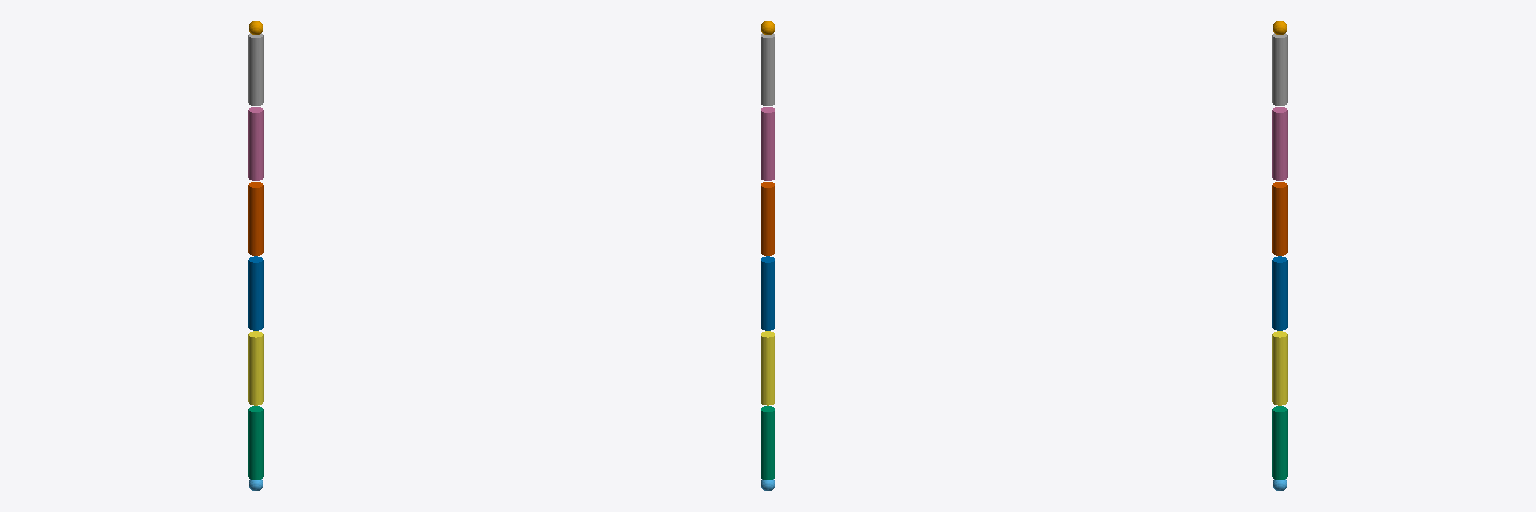
robot.urdf — panda_description:
<?xml version="1.0" encoding="utf-8"?>
<!-- =================================================================================== -->
<!-- |    This document was autogenerated by xacro from panda.urdf.xacro               | -->
<!-- |    EDITING THIS FILE BY HAND IS NOT RECOMMENDED                                 | -->
<!-- =================================================================================== -->
<robot name="panda_description">
  <link name="world"/>
  <joint name="robot_to_world" type="fixed">
    <parent link="world"/>
    <child link="panda_link0"/>
    <origin rpy="0.0 0.0 0.0" xyz="0.0 0.0 0.1"/>
  </joint>
  <!-- end for simulation -->
  <link name="panda_link0">
    <visual>
      <geometry>
        <sphere radius="0.1"/>
      </geometry>
    </visual>
    <collision>
      <geometry>
        <sphere radius="0.1"/>
      </geometry>
    </collision>
    <!-- for simulation -->
    <inertial>
      <origin rpy="0 0 0" xyz="0 0 0.05"/>
      <mass value="1.00"/>
      <inertia ixx="0.25083" ixy="0.0" ixz="0.0" iyy="0.25083" iyz="0.0" izz="0.5"/>
    </inertial>
    <!-- end for simulation -->
  </link>
  <link name="panda_link1">
    <visual>
      <origin xyz="0 0 0.6" rpy="0 0 0"/>
      <geometry>
        <cylinder length="1.0" radius="0.1"/>
      </geometry>
    </visual>
    <collision>
      <origin xyz="0 0 0.6" rpy="0 0 0"/>
      <geometry>
        <cylinder length="1.0" radius="0.1"/>
      </geometry>
    </collision>
    <!-- for simulation -->
    <inertial>
      <origin rpy="0 0 0" xyz="0 0 0.5"/>
      <mass value="1.0"/>
      <inertia ixx="0.0858" ixy="0.0" ixz="0.0" iyy="0.0858" iyz="0.0" izz="0.005"/>
    </inertial>
    <!-- end for simulation -->
  </link>
  <link name="panda_link2">
    <visual>
      <origin xyz="0 0 0.6" rpy="0 0 0"/>
      <geometry>
        <cylinder length="1.0" radius="0.1"/>
      </geometry>
    </visual>
    <collision>
      <origin xyz="0 0 0.6" rpy="0 0 0"/>
      <geometry>
        <cylinder length="1.0" radius="0.1"/>
      </geometry>
    </collision>
    <!-- for simulation -->
    <inertial>
      <origin rpy="0 0 0" xyz="0 0 0.5"/>
      <mass value="1.0"/>
      <inertia ixx="0.0858" ixy="0.0" ixz="0.0" iyy="0.0858" iyz="0.0" izz="0.005"/>
    </inertial>
    <!-- end for simulation -->
  </link>
  <link name="panda_link3">
    <visual>
      <origin xyz="0 0 0.6" rpy="0 0 0"/>
      <geometry>
        <cylinder length="1.0" radius="0.1"/>
      </geometry>
    </visual>
    <collision>
      <origin xyz="0 0 0.6" rpy="0 0 0"/>
      <geometry>
        <cylinder length="1.0" radius="0.1"/>
      </geometry>
    </collision>
    <!-- for simulation -->
    <inertial>
      <origin rpy="0 0 0" xyz="0 0 0.5"/>
      <mass value="1.0"/>
      <inertia ixx="0.0858" ixy="0.0" ixz="0.0" iyy="0.0858" iyz="0.0" izz="0.005"/>
    </inertial>
    <!-- end for simulation -->
  </link>
  <link name="panda_link4">
    <visual>
      <origin xyz="0 0 0.6" rpy="0 0 0"/>
      <geometry>
        <cylinder length="1.0" radius="0.1"/>
      </geometry>
    </visual>
    <collision>
      <origin xyz="0 0 0.6" rpy="0 0 0"/>
      <geometry>
        <cylinder length="1.0" radius="0.1"/>
      </geometry>
    </collision>
    <!-- for simulation -->
    <inertial>
      <origin rpy="0 0 0" xyz="0 0 0.5"/>
      <mass value="1.0"/>
      <inertia ixx="0.0858" ixy="0.0" ixz="0.0" iyy="0.0858" iyz="0.0" izz="0.005"/>
    </inertial>
    <!-- end for simulation -->
  </link>
  <link name="panda_link5">
    <visual>
      <origin xyz="0 0 0.6" rpy="0 0 0"/>
      <geometry>
        <cylinder length="1.0" radius="0.1"/>
      </geometry>
    </visual>
    <collision>
      <origin xyz="0 0 0.6" rpy="0 0 0"/>
      <geometry>
        <cylinder length="1.0" radius="0.1"/>
      </geometry>
    </collision>
    <!-- for simulation -->
    <inertial>
      <origin rpy="0 0 0" xyz="0 0 0.5"/>
      <mass value="1.0"/>
      <inertia ixx="0.0858" ixy="0.0" ixz="0.0" iyy="0.0858" iyz="0.0" izz="0.005"/>
    </inertial>
    <!-- end for simulation -->
  </link>
  <link name="panda_link6">
    <visual>
      <origin xyz="0 0 0.6" rpy="0 0 0"/>
      <geometry>
        <cylinder length="1.0" radius="0.1"/>
      </geometry>
    </visual>
    <collision>
      <origin xyz="0 0 0.6" rpy="0 0 0"/>
      <geometry>
        <cylinder length="1.0" radius="0.1"/>
      </geometry>
    </collision>
    <!-- for simulation -->
    <inertial>
      <origin rpy="0 0 0" xyz="0 0 0.5"/>
      <mass value="1.0"/>
      <inertia ixx="0.0858" ixy="0.0" ixz="0.0" iyy="0.0858" iyz="0.0" izz="0.005"/>
    </inertial>
    <!-- end for simulation -->
  </link>
  <joint name="panda_joint1" type="revolute">
    <safety_controller k_position="100.0" k_velocity="40.0" soft_lower_limit="-2.8973" soft_upper_limit="2.8973"/>
    <origin rpy="0 0 0" xyz="0 0 0.0"/>
    <parent link="panda_link0"/>
    <child link="panda_link1"/>
    <axis xyz="1 0 0"/>
    <limit effort="87" lower="-2.8973" upper="2.8973" velocity="2.1750"/>
    <!-- for simulation -->
    <dynamics damping="0.0" friction="0.0"/>
    <!-- end for simulation -->
  </joint>
  <joint name="panda_joint2" type="revolute">
    <safety_controller k_position="100.0" k_velocity="40.0" soft_lower_limit="-2.8973" soft_upper_limit="2.8973"/>
    <origin rpy="0 0 0" xyz="0 0 1.1"/>
    <parent link="panda_link1"/>
    <child link="panda_link2"/>
    <axis xyz="0 1 0"/>
    <limit effort="87" lower="-2.8973" upper="2.8973" velocity="2.1750"/>
    <!-- for simulation -->
    <dynamics damping="0.0" friction="0.0"/>
    <!-- end for simulation -->
  </joint>
  <joint name="panda_joint3" type="revolute">
    <safety_controller k_position="100.0" k_velocity="40.0" soft_lower_limit="-2.8973" soft_upper_limit="2.8973"/>
    <origin rpy="0 0 0" xyz="0 0 1.1"/>
    <parent link="panda_link2"/>
    <child link="panda_link3"/>
    <axis xyz="1 0 0"/>
    <limit effort="87" lower="-2.8973" upper="2.8973" velocity="2.1750"/>
    <!-- for simulation -->
    <dynamics damping="0.0" friction="0.0"/>
    <!-- end for simulation -->
  </joint>
  <joint name="panda_joint4" type="revolute">
    <safety_controller k_position="100.0" k_velocity="40.0" soft_lower_limit="-2.8973" soft_upper_limit="2.8973"/>
    <origin rpy="0 0 0" xyz="0 0 1.1"/>
    <parent link="panda_link3"/>
    <child link="panda_link4"/>
    <axis xyz="1 0 0"/>
    <limit effort="87" lower="-2.8973" upper="2.8973" velocity="2.1750"/>
    <!-- for simulation -->
    <dynamics damping="0.0" friction="0.0"/>
    <!-- end for simulation -->
  </joint>
  <joint name="panda_joint5" type="revolute">
    <safety_controller k_position="100.0" k_velocity="40.0" soft_lower_limit="-2.8973" soft_upper_limit="2.8973"/>
    <origin rpy="0 0 0" xyz="0 0 1.1"/>
    <parent link="panda_link4"/>
    <child link="panda_link5"/>
    <axis xyz="1 0 0"/>
    <limit effort="87" lower="-2.8973" upper="2.8973" velocity="2.1750"/>
    <!-- for simulation -->
    <dynamics damping="0.0" friction="0.0"/>
    <!-- end for simulation -->
  </joint>
  <joint name="panda_joint6" type="revolute">
    <safety_controller k_position="100.0" k_velocity="40.0" soft_lower_limit="-2.8973" soft_upper_limit="2.8973"/>
    <origin rpy="0 0 0" xyz="0 0 1.1"/>
    <parent link="panda_link5"/>
    <child link="panda_link6"/>
    <axis xyz="1 0 0"/>
    <limit effort="87" lower="-2.8973" upper="2.8973" velocity="2.1750"/>
    <!-- for simulation -->
    <dynamics damping="0.0" friction="0.0"/>
    <!-- end for simulation -->
  </joint>
  <link name="panda_link7">
    <visual>
      <origin xyz="0 0 0.005" rpy="0 0 0"/>
      <geometry>
        <sphere radius="0.1"/>
      </geometry>
    </visual>
    <collision>
      <geometry>
        <sphere radius="0.01"/>
      </geometry>
    </collision>
    <!-- for simulation -->
    <inertial>
      <origin rpy="0 0 0" xyz="0 0 0.005"/>
      <mass value="0.0001"/>
      <inertia ixx="0.00005" ixy="0.0" ixz="0.0" iyy="0.00005" iyz="0.0" izz="0.00005"/>
    </inertial>
    <!-- end for simulation -->
  </link>
  <joint name="panda_joint7" type="fixed">
    <origin rpy="0 0 0" xyz="0 0 1.2"/>
    <parent link="panda_link6"/>
    <child link="panda_link7"/>
    <axis xyz="0 0 1"/>
  </joint>
  <!-- end for simulation -->
</robot>

--- Render facts (derived) ---
Views: 3 orthographic renders of the robot side by side, from view 1: azimuth 90°, elevation 25°; view 2: azimuth 150°, elevation 25°; view 3: azimuth 270°, elevation 25°.
Robot: panda_description — 9 links, 8 joints (6 revolute, 2 fixed); root link world; default pose: all joints at 0.
Visible links, largest first — view 1: panda_link2, panda_link3, panda_link5, panda_link1, panda_link4, panda_link6; view 2: panda_link3, panda_link2, panda_link5, panda_link1, panda_link4, panda_link6; view 3: panda_link2, panda_link3, panda_link5, panda_link1, panda_link4, panda_link6.
Link boxes in pixels (x1,y1,x2,y2): panda_link2: [248, 331, 263, 405]; panda_link3: [248, 256, 263, 330]; panda_link5: [248, 107, 263, 180]; panda_link1: [248, 406, 263, 479]; panda_link4: [248, 182, 263, 255]; panda_link6: [248, 33, 263, 105]; panda_link3: [761, 256, 774, 330]; panda_link2: [761, 331, 774, 405]; panda_link5: [761, 107, 774, 180]; panda_link1: [761, 406, 774, 479]; panda_link4: [761, 182, 774, 255]; panda_link6: [761, 33, 774, 105]; panda_link2: [1272, 331, 1287, 405]; panda_link3: [1272, 256, 1287, 330]; panda_link5: [1272, 107, 1287, 180]; panda_link1: [1272, 406, 1287, 479]; panda_link4: [1272, 182, 1287, 255]; panda_link6: [1272, 33, 1287, 105].
Bounding box of the posed robot: 0.2 × 0.2 × 6.91 m (x, y, z).
Geometry: primitives only (box / cylinder / sphere), no mesh files.
